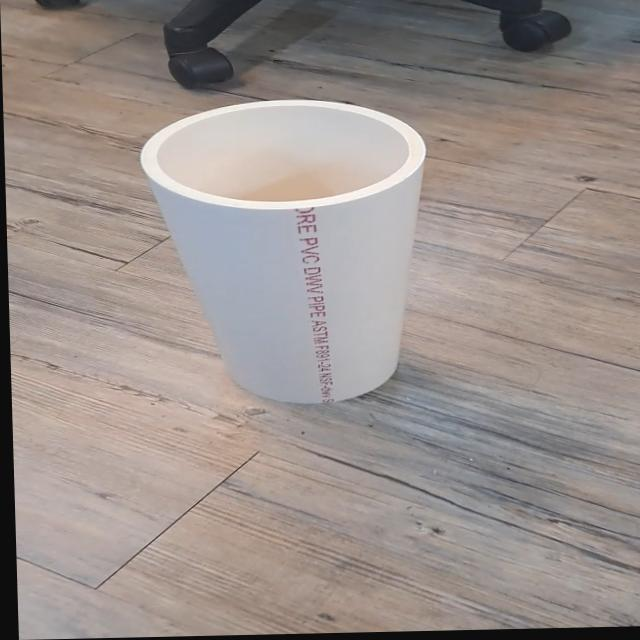CORAL: (128, 89, 464, 406)
